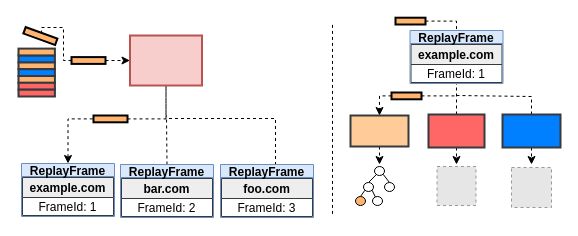
Some shapes in this 578 by 236 pixel diagram are drawn without their labels. Grey dashed boxes stand in for pictures. The centre of each missing label's shape, as x and y in pixels:
"DOM Replayer" belongs at point 379,130.
"Event Replayer" belongs at point 531,130.
"JS Replayer" belongs at point 456,130.
"Replay Dispatcher" belongs at point 165,60.
